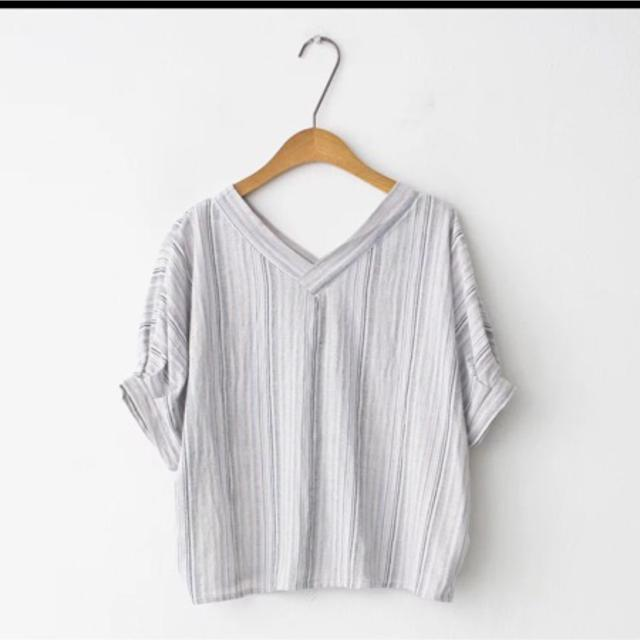Tops: (140, 169, 512, 609)
